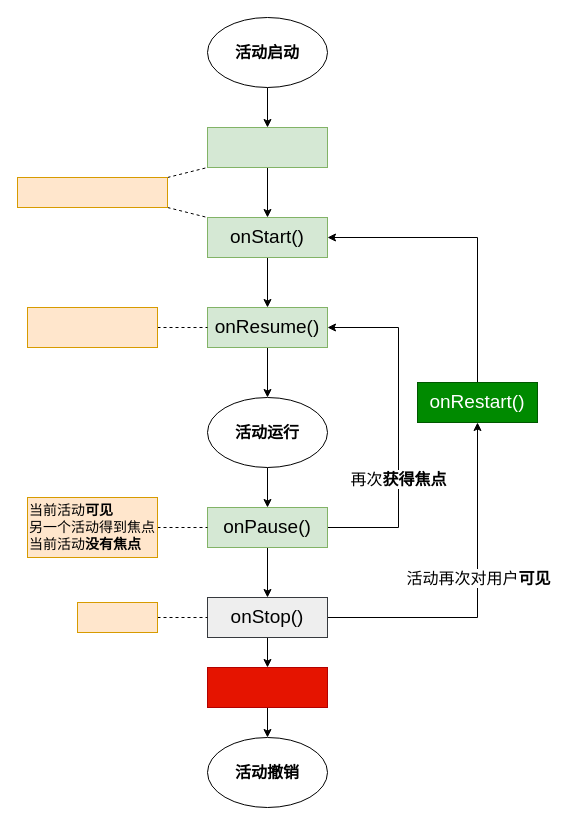
Image size: 567x825. Some labels were removed from this diagram. Here are the shapes that lost their labels. From the top down, the centre of each, then its label:
(x=267, y=147): onCreate()
(x=92, y=192): 活动 可见 ，但 没有焦点
(x=92, y=327): 活动 可见，得到焦点 用户可以与活动交互
(x=117, y=617): 活动 不可见
(x=267, y=687): onDestory()
